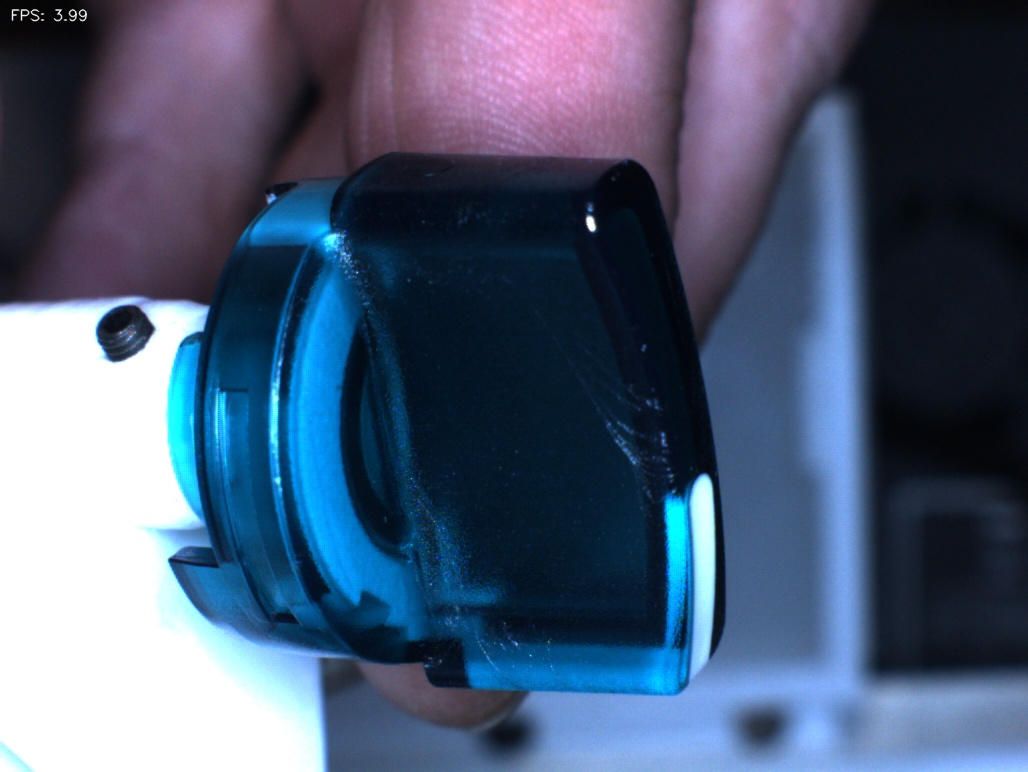Givrage: (562, 355, 672, 491)
